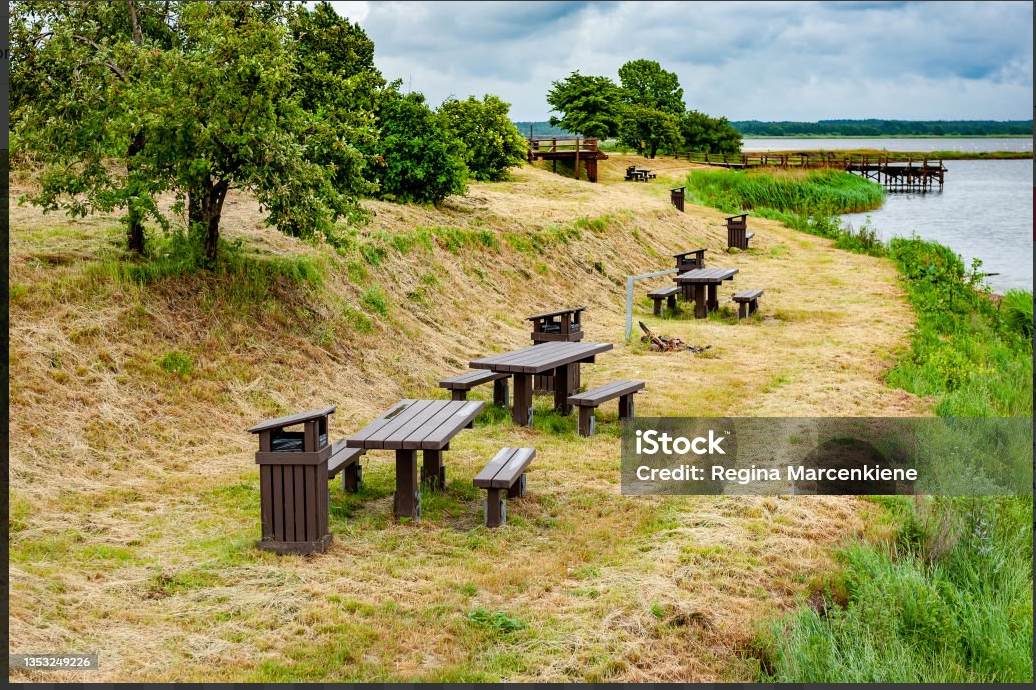obstacle: (346, 392, 486, 519), (474, 335, 615, 426), (473, 440, 539, 526), (567, 377, 649, 437), (673, 265, 728, 319), (732, 279, 768, 325)
